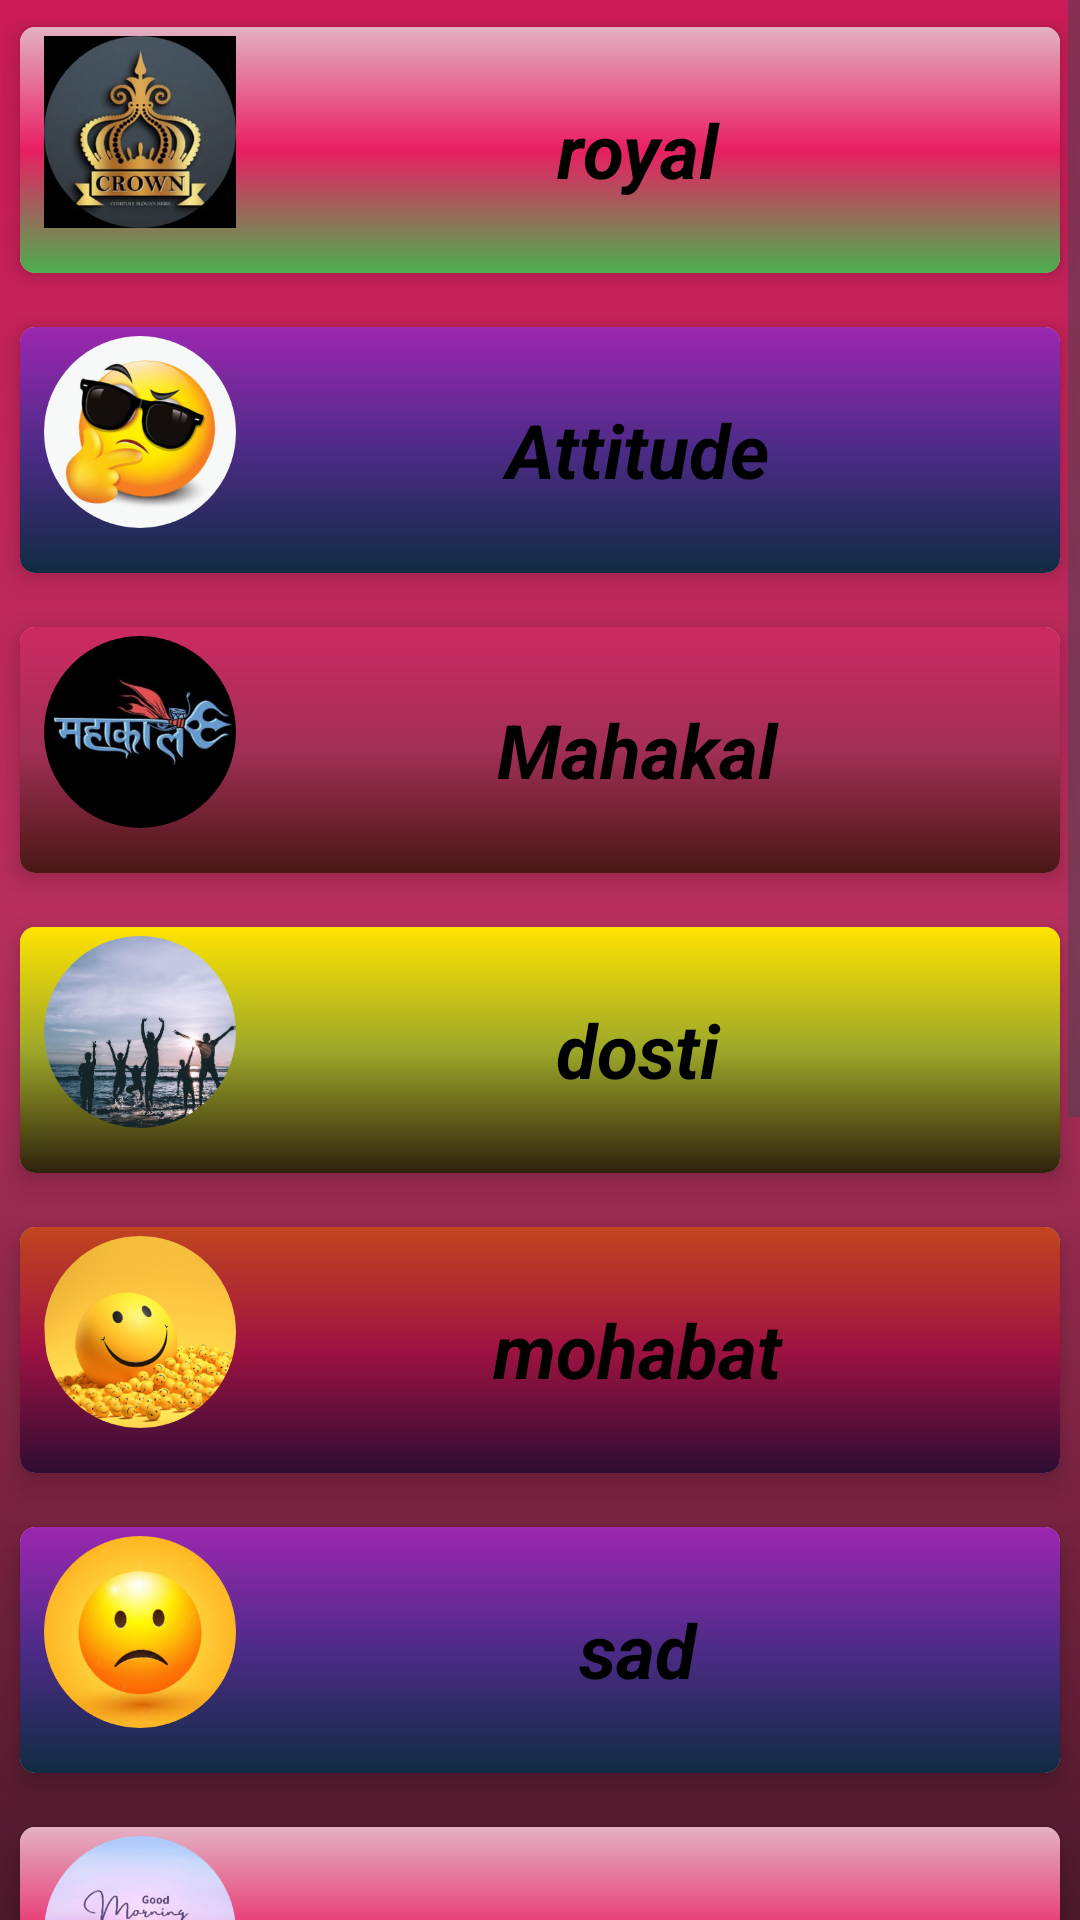

Named icons in this screenshot (1080 × 1920) and their centers, (x,y):
friends: (140,1032)
happy: (140,1332)
